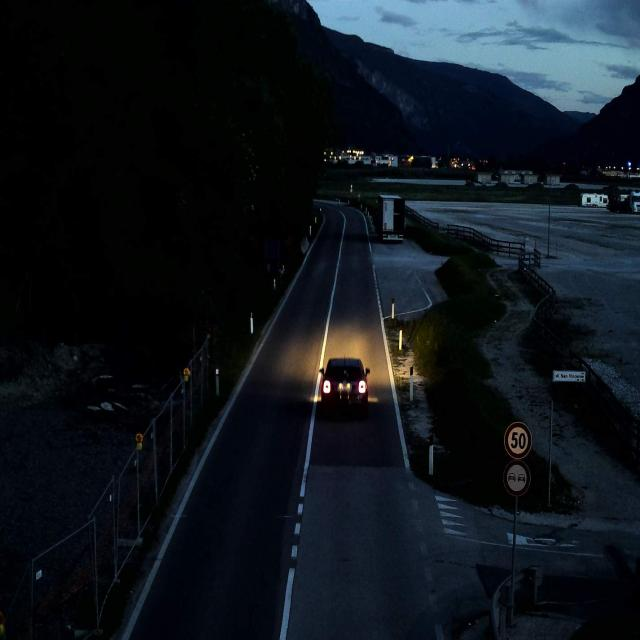car: (319, 357, 371, 412)
truck: (376, 192, 406, 244), (629, 189, 640, 215)
